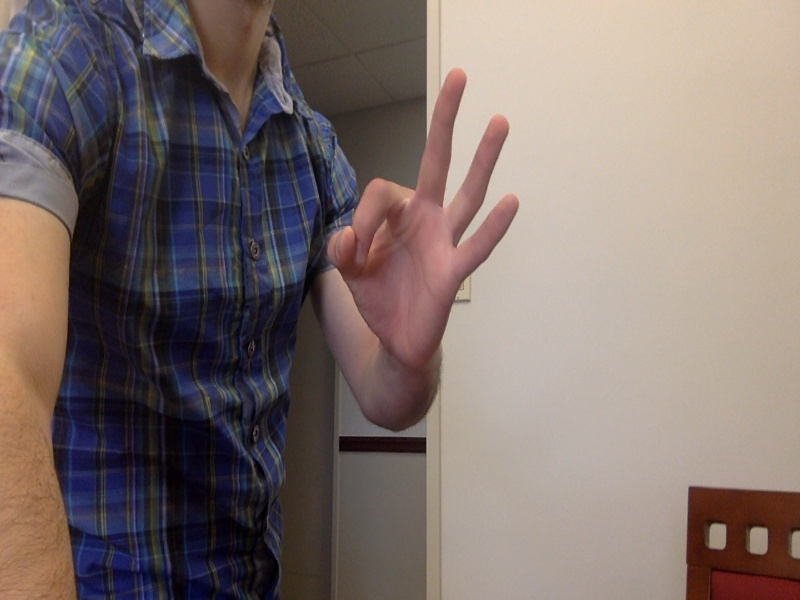3-hand: (333, 65, 519, 375)
